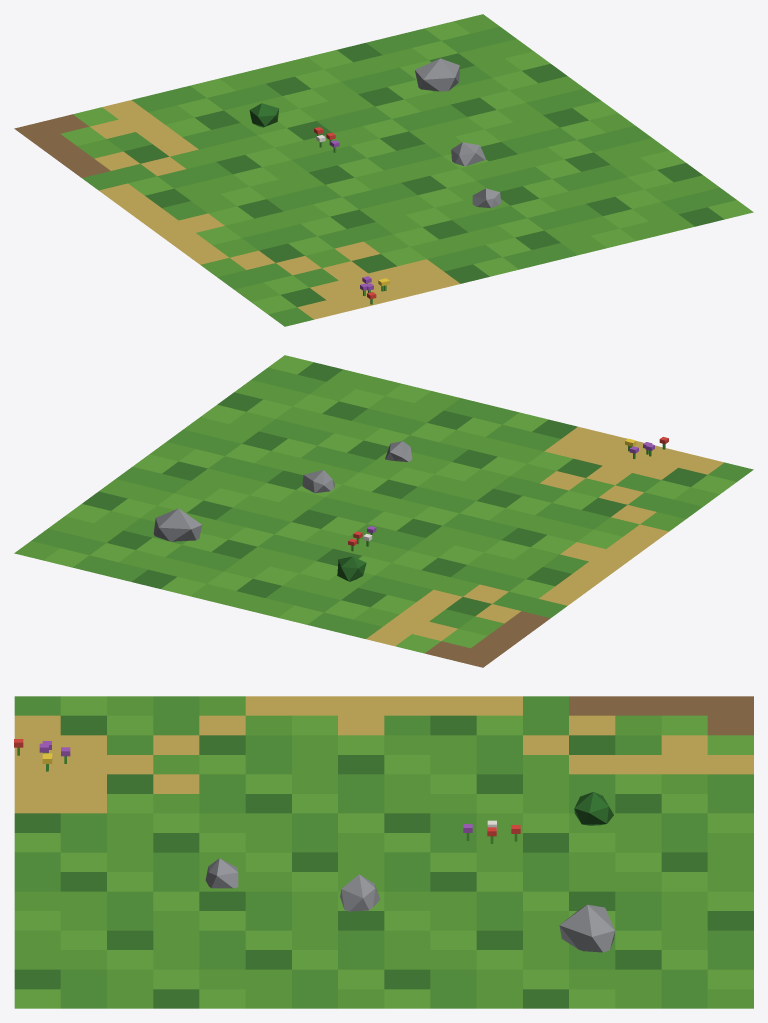
File: chunk_2_13.glb
3 renders of one model, top to bottom at view 1: azimuth 30°, elevation 25°; view 2: azimuth 150°, elevation 25°; view 3: azimuth 270°, elevation 25°, orthographic. The views are drawn at different scales.
Parts seen in each view (by area): view 1: chunk_2_13; view 2: chunk_2_13; view 3: chunk_2_13.
Part boxes in pixels (box(x1,y1,x2,y2)): chunk_2_13: box(14, 14, 753, 326); chunk_2_13: box(14, 355, 753, 667); chunk_2_13: box(14, 696, 753, 1008).
Size of the model in its own units: 16 by 1.32 by 16.01.
